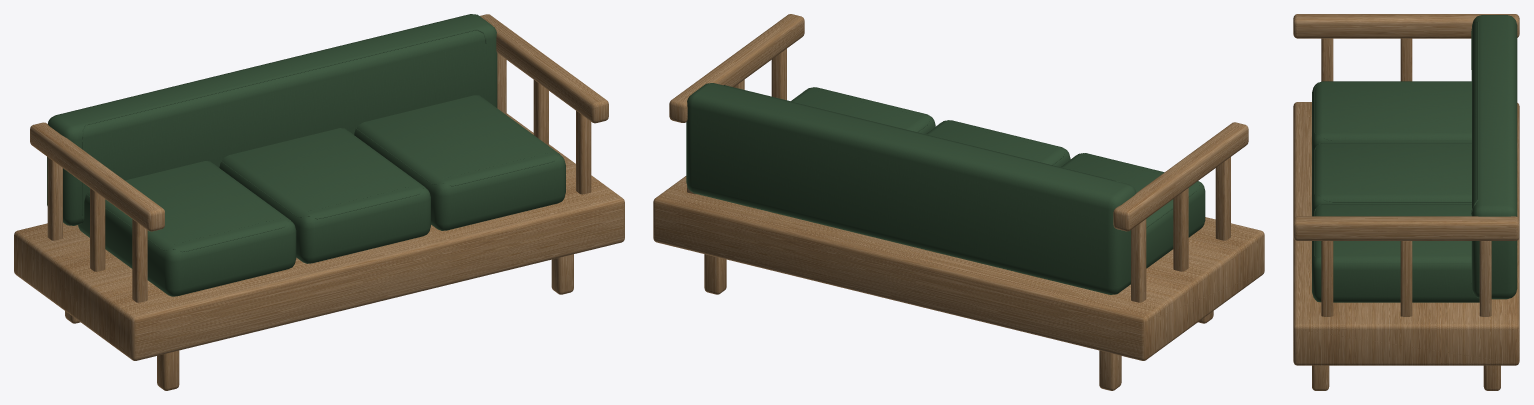
The model's file is sofa-current.glb.
3 renders of one model, left to right at view 1: azimuth 30°, elevation 25°; view 2: azimuth 150°, elevation 25°; view 3: azimuth 270°, elevation 25°, orthographic. The views are drawn at different scales.
Visible parts, largest first — view 1: slat-day-sofa authored assembly; view 2: slat-day-sofa authored assembly; view 3: slat-day-sofa authored assembly.
Part boxes in pixels (x1,y1,x2,y2): slat-day-sofa authored assembly: (14,14,624,390); slat-day-sofa authored assembly: (653,14,1264,390); slat-day-sofa authored assembly: (1293,14,1519,390).
Bounding box in the file's own units: 2 × 0.78 × 0.85.
4 materials, 2 textured.
